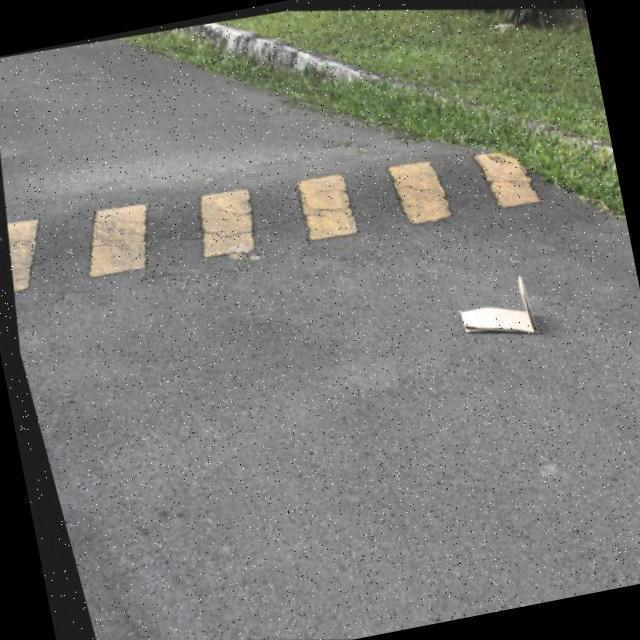Paper_Bag: (445, 260, 542, 345)
